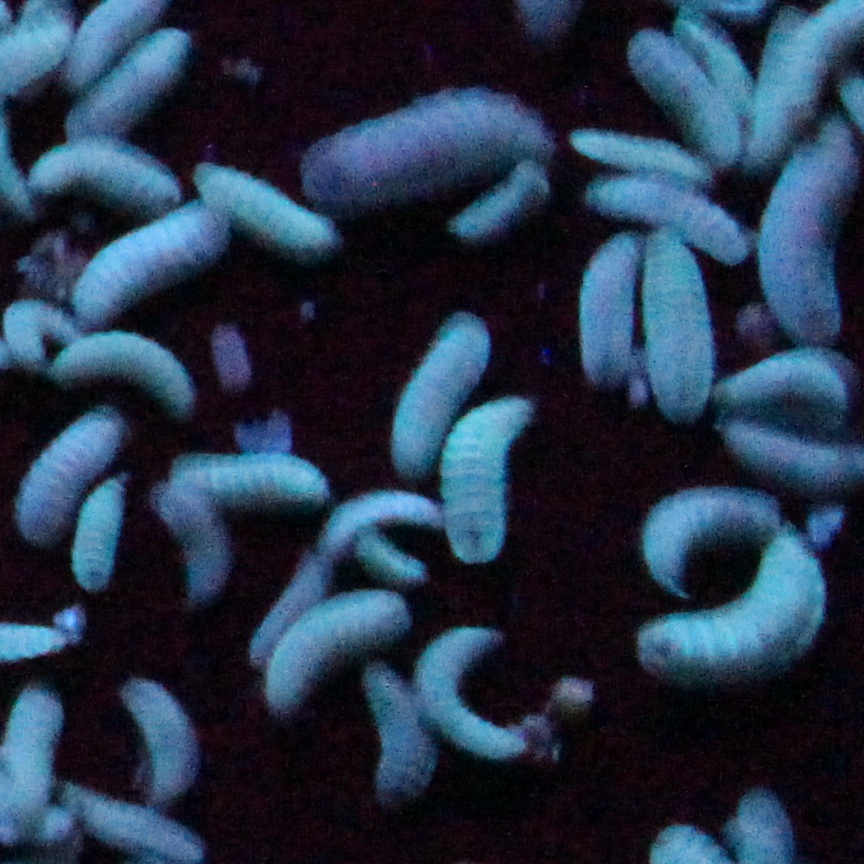larve: (293, 76, 571, 203), (635, 514, 832, 680), (375, 301, 501, 491), (409, 622, 548, 783), (80, 191, 237, 327), (263, 581, 412, 712), (439, 385, 542, 568), (16, 403, 134, 552), (188, 160, 352, 260), (565, 229, 657, 401), (39, 321, 207, 411), (116, 663, 211, 821), (561, 112, 716, 193), (171, 440, 330, 516)
